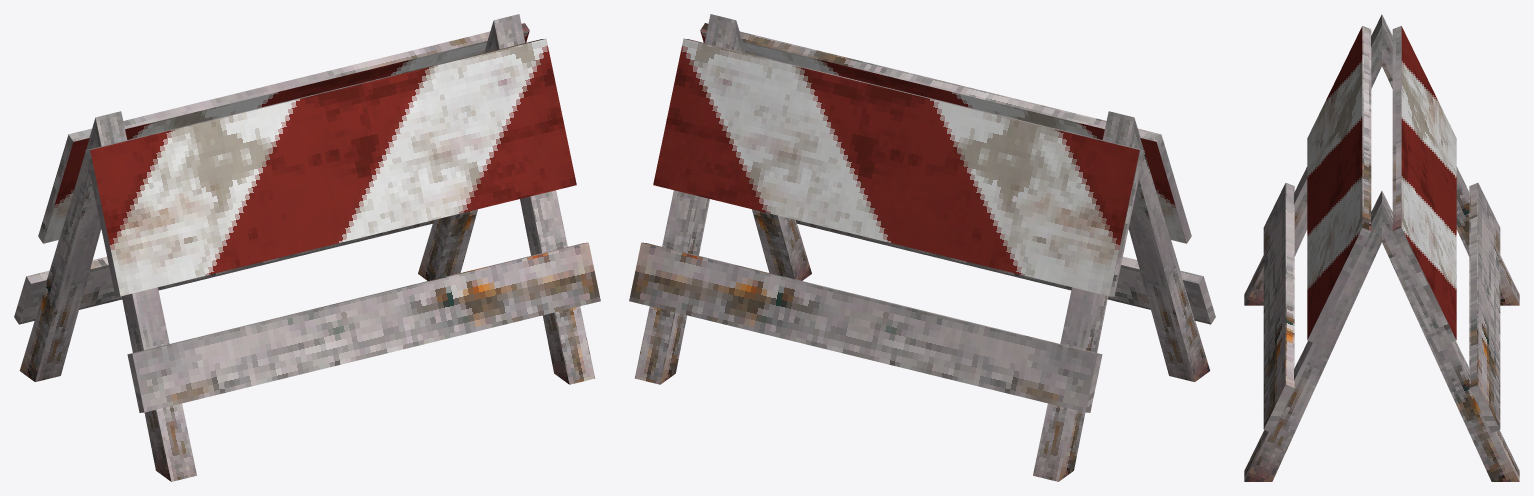
Rendered from sewerobstacle.glb.
3 views of the same model, side by side, from view 1: azimuth 30°, elevation 25°; view 2: azimuth 150°, elevation 25°; view 3: azimuth 270°, elevation 25° (orthographic). The views are drawn at different scales.
Parts seen in each view (by area): view 1: Prop_Barricade; view 2: Prop_Barricade; view 3: Prop_Barricade.
Part boxes in pixels (x1,y1,x2,y2): Prop_Barricade: (14, 14, 600, 481); Prop_Barricade: (629, 14, 1215, 481); Prop_Barricade: (1244, 14, 1519, 481).
Bounding box in the file's own units: 1.66 × 1.08 × 0.9571.
Materials: 1 (1 with a texture image).
